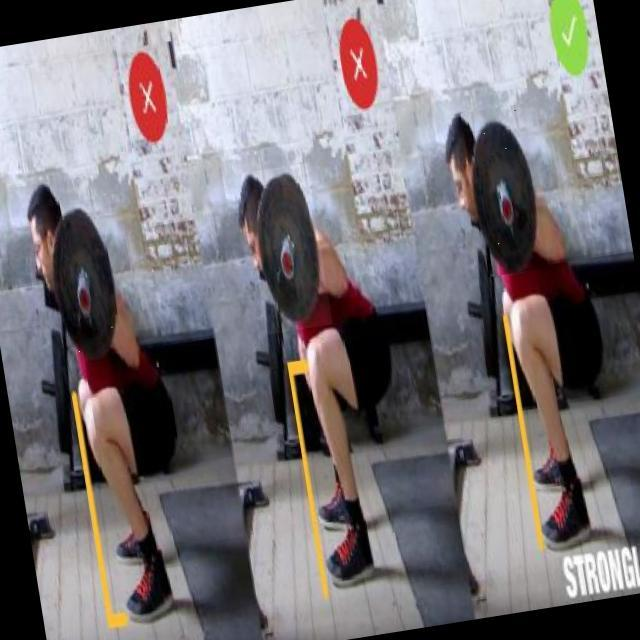barbell: (37, 198, 132, 368), (462, 105, 553, 279), (242, 165, 334, 336)
